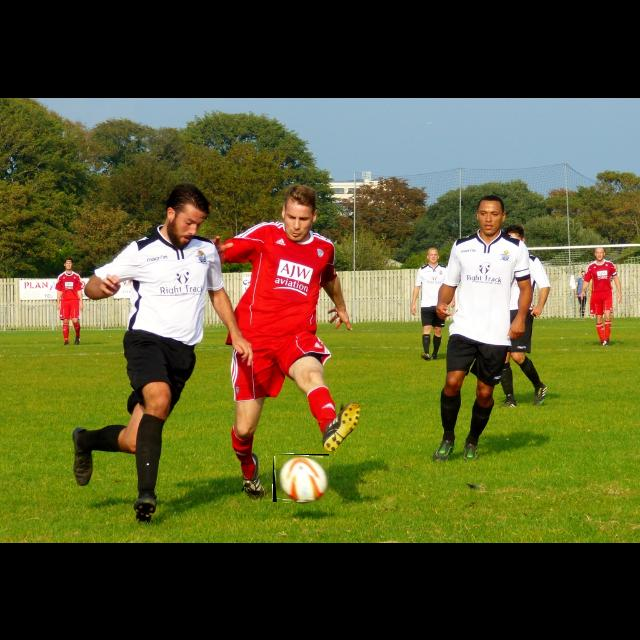Football: (273, 454, 329, 502)
